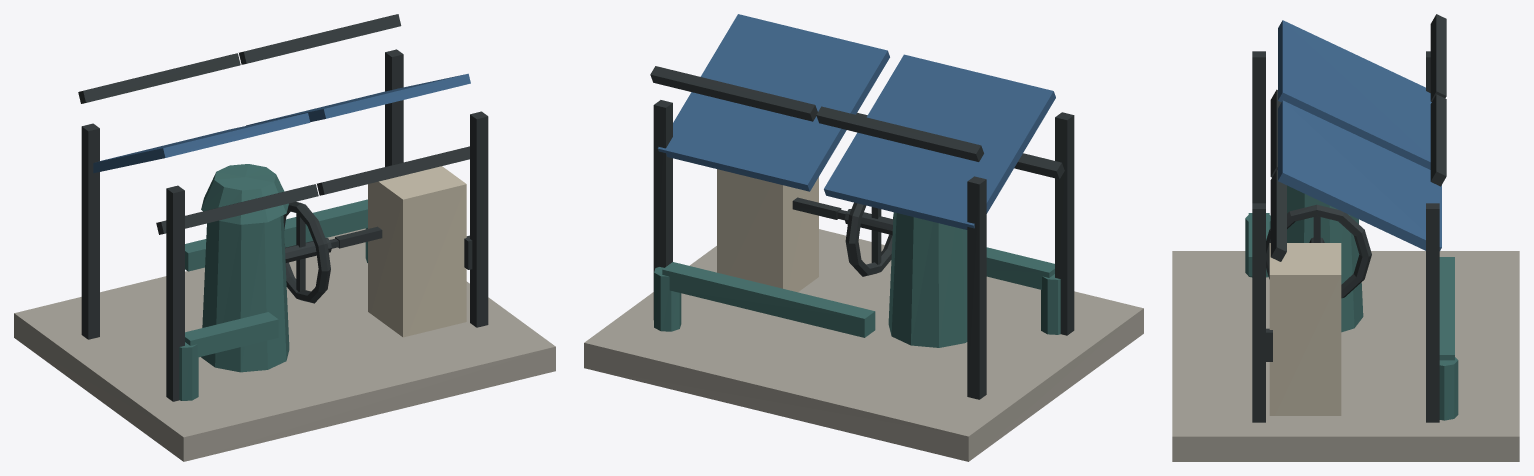
File: solar-pump.source.glb
3 views of the same model, side by side, from view 1: azimuth 30°, elevation 25°; view 2: azimuth 150°, elevation 25°; view 3: azimuth 270°, elevation 25° (orthographic). The views are drawn at different scales.
Parts seen in each view (by area): view 1: solar-pump-concrete-equipment-pad-mesh, solar-pump-cream-control-cabinet-mesh, solar-pump-vertical-pump-cylinder-mesh, solar-pump-solar-frame-post-1.55-0.75-mesh, solar-pump-solar-frame-post--1.55--0.75-mesh, solar-pump-solar-frame-post--1.55-0.75-mesh, solar-pump-pump-cap-mesh, solar-pump-tilted-solar-panel--0.82-mesh, solar-pump-inlet-pipe-run-mesh, solar-pump-outlet-pipe-run-mesh, solar-pump-tilted-solar-panel-0.82-mesh, solar-pump-solar-panel-upper-rail--0.82-mesh (+8 smaller); view 2: solar-pump-concrete-equipment-pad-mesh, solar-pump-tilted-solar-panel-0.82-mesh, solar-pump-tilted-solar-panel--0.82-mesh, solar-pump-cream-control-cabinet-mesh, solar-pump-vertical-pump-cylinder-mesh, solar-pump-outlet-pipe-run-mesh, solar-pump-solar-frame-post--1.55--0.75-mesh, solar-pump-solar-frame-post--1.55-0.75-mesh, solar-pump-solar-frame-post-1.55--0.75-mesh, solar-pump-solar-panel-upper-rail--0.82-mesh, solar-pump-solar-panel-upper-rail-0.82-mesh, solar-pump-inlet-pipe-run-mesh (+6 smaller); view 3: solar-pump-concrete-equipment-pad-mesh, solar-pump-tilted-solar-panel-0.82-mesh, solar-pump-tilted-solar-panel--0.82-mesh, solar-pump-cream-control-cabinet-mesh, solar-pump-vertical-pump-cylinder-mesh, solar-pump-solar-frame-post-1.55--0.75-mesh, solar-pump-solar-frame-post-1.55-0.75-mesh, solar-pump-solar-frame-post--1.55-0.75-mesh, solar-pump-flywheel-rim-mesh, solar-pump-outlet-pipe-run-mesh, solar-pump-solar-panel-upper-rail-0.82-mesh, solar-pump-solar-panel-upper-rail--0.82-mesh (+4 smaller).
Part boxes in pixels (<box>): solar-pump-concrete-equipment-pad-mesh: <box>14,228,555,461</box>; solar-pump-cream-control-cabinet-mesh: <box>368,166,466,337</box>; solar-pump-vertical-pump-cylinder-mesh: <box>201,215,289,372</box>; solar-pump-solar-frame-post-1.55-0.75-mesh: <box>470,111,488,327</box>; solar-pump-solar-frame-post--1.55--0.75-mesh: <box>81,123,99,339</box>; solar-pump-solar-frame-post--1.55-0.75-mesh: <box>166,185,184,401</box>; solar-pump-pump-cap-mesh: <box>201,164,288,224</box>; solar-pump-tilted-solar-panel--0.82-mesh: <box>93,113,310,173</box>; solar-pump-inlet-pipe-run-mesh: <box>185,312,278,357</box>; solar-pump-outlet-pipe-run-mesh: <box>185,199,367,271</box>; solar-pump-tilted-solar-panel-0.82-mesh: <box>246,73,470,125</box>; solar-pump-solar-panel-upper-rail--0.82-mesh: <box>78,53,240,103</box>; solar-pump-concrete-equipment-pad-mesh: <box>584,229,1143,461</box>; solar-pump-tilted-solar-panel-0.82-mesh: <box>658,14,889,191</box>; solar-pump-tilted-solar-panel--0.82-mesh: <box>824,54,1055,229</box>; solar-pump-cream-control-cabinet-mesh: <box>717,169,818,292</box>; solar-pump-vertical-pump-cylinder-mesh: <box>888,212,967,347</box>; solar-pump-outlet-pipe-run-mesh: <box>662,262,875,337</box>; solar-pump-solar-frame-post--1.55--0.75-mesh: <box>967,176,986,399</box>; solar-pump-solar-frame-post--1.55-0.75-mesh: <box>1055,112,1074,335</box>; solar-pump-solar-frame-post-1.55--0.75-mesh: <box>653,100,672,319</box>; solar-pump-solar-panel-upper-rail--0.82-mesh: <box>816,106,983,161</box>; solar-pump-solar-panel-upper-rail-0.82-mesh: <box>650,66,817,121</box>; solar-pump-inlet-pipe-run-mesh: <box>986,247,1054,289</box>; solar-pump-concrete-equipment-pad-mesh: <box>1172,251,1519,461</box>; solar-pump-tilted-solar-panel-0.82-mesh: <box>1278,100,1441,250</box>; solar-pump-tilted-solar-panel--0.82-mesh: <box>1278,20,1431,169</box>; solar-pump-cream-control-cabinet-mesh: <box>1269,243,1341,415</box>; solar-pump-vertical-pump-cylinder-mesh: <box>1287,185,1363,332</box>; solar-pump-solar-frame-post-1.55--0.75-mesh: <box>1426,203,1439,422</box>; solar-pump-solar-frame-post-1.55-0.75-mesh: <box>1252,203,1265,422</box>; solar-pump-solar-frame-post--1.55-0.75-mesh: <box>1252,51,1265,203</box>; solar-pump-flywheel-rim-mesh: <box>1266,204,1371,298</box>; solar-pump-outlet-pipe-run-mesh: <box>1439,257,1454,360</box>; solar-pump-solar-panel-upper-rail-0.82-mesh: <box>1430,94,1446,186</box>; solar-pump-solar-panel-upper-rail--0.82-mesh: <box>1430,14,1446,101</box>.
Bounding box in the file's own units: 3.8 × 2.63 × 3.
